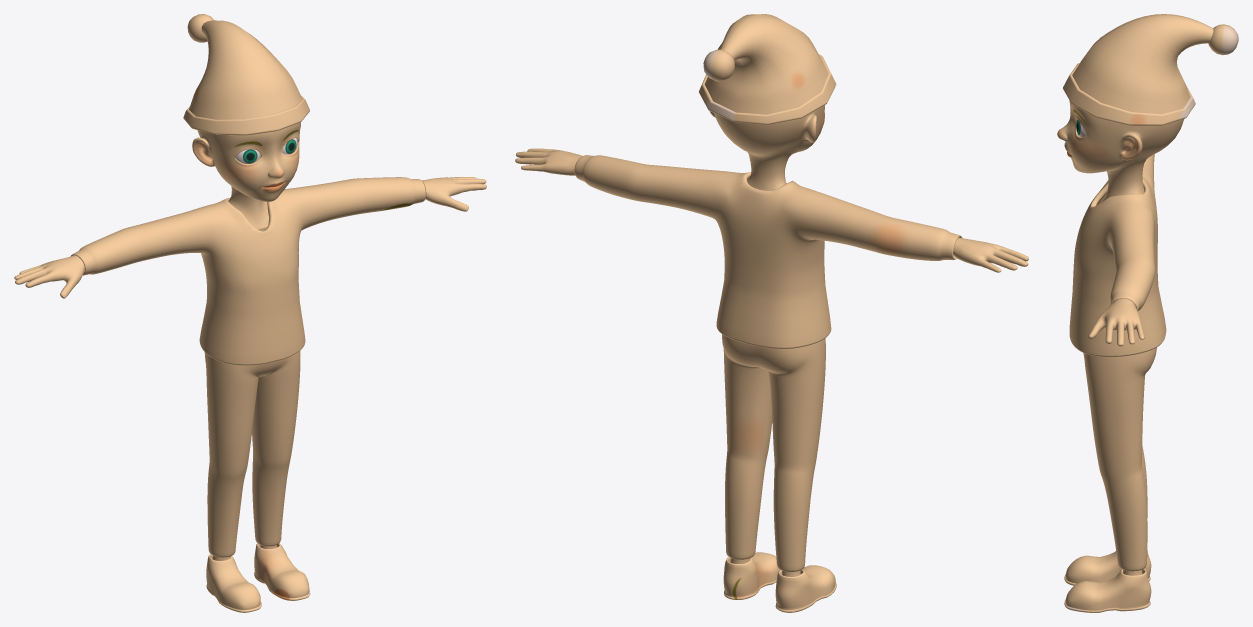
File: Character_3.fbx
The picture shows the model from 3 angles, left to right: view 1: azimuth 30°, elevation 25°; view 2: azimuth 150°, elevation 25°; view 3: azimuth 270°, elevation 25°; orthographic projection. The views are drawn at different scales.
Parts seen in each view (by area): view 1: Shirt, Pants, Hat, Face, Shoe_Right, Shoe_Left, Arm_Left, Arm_Right; view 2: Shirt, Pants, Hat, Face, Shoe_Left, Shoe_Right, Arm_Left, Arm_Right; view 3: Shirt, Hat, Pants, Face, Shoe_Right, Arm_Right, Shoe_Left.
Part boxes in pixels (bbox=[...]): Shirt: bbox=[70, 177, 426, 365]; Pants: bbox=[204, 351, 300, 557]; Hat: bbox=[183, 14, 309, 135]; Face: bbox=[192, 122, 300, 229]; Shoe_Right: bbox=[254, 543, 310, 600]; Shoe_Left: bbox=[206, 554, 261, 612]; Arm_Left: bbox=[14, 255, 84, 298]; Arm_Right: bbox=[422, 177, 486, 211]; Shirt: bbox=[574, 155, 962, 348]; Pants: bbox=[722, 334, 825, 571]; Hat: bbox=[699, 14, 836, 124]; Face: bbox=[709, 105, 824, 190]; Shoe_Left: bbox=[775, 565, 836, 612]; Shoe_Right: bbox=[723, 552, 779, 599]; Arm_Left: bbox=[953, 238, 1028, 272]; Arm_Right: bbox=[515, 148, 582, 175]; Shirt: bbox=[1069, 154, 1166, 356]; Hat: bbox=[1063, 14, 1238, 125]; Pants: bbox=[1083, 347, 1156, 571]; Face: bbox=[1057, 100, 1184, 201]; Shoe_Right: bbox=[1064, 569, 1151, 612]; Arm_Right: bbox=[1087, 298, 1144, 346]; Shoe_Left: bbox=[1064, 550, 1151, 585].
Bounding box in the file's own units: 105 × 116 × 33.13.
